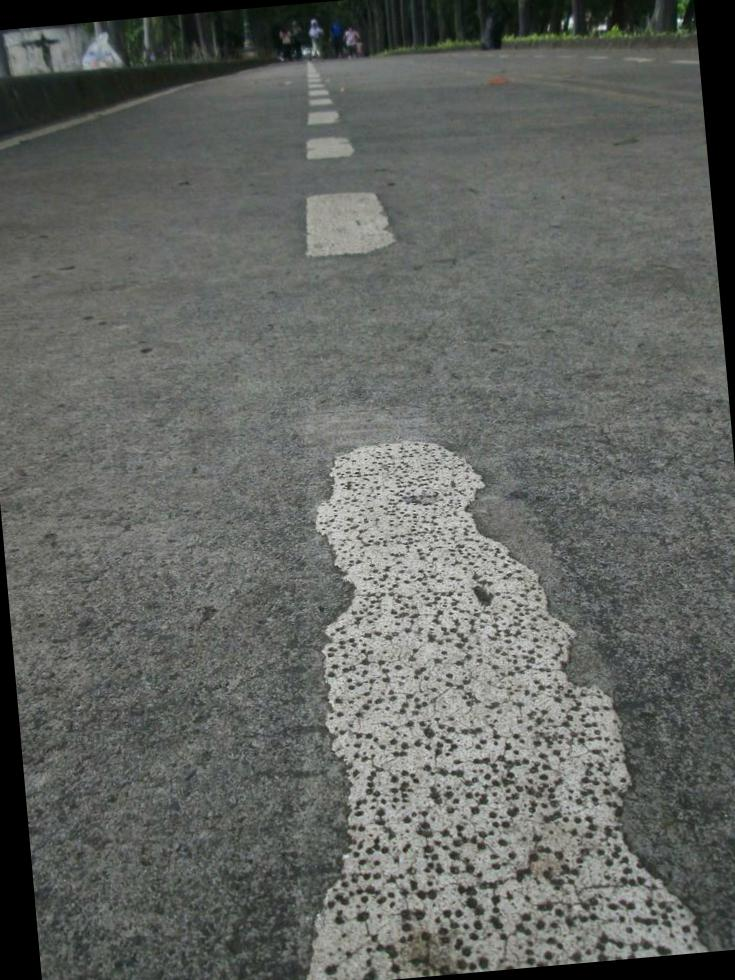faded_road_lines: (191, 339, 705, 980), (381, 24, 704, 150), (290, 181, 406, 271), (292, 132, 362, 169), (298, 50, 334, 112), (302, 107, 346, 129)
